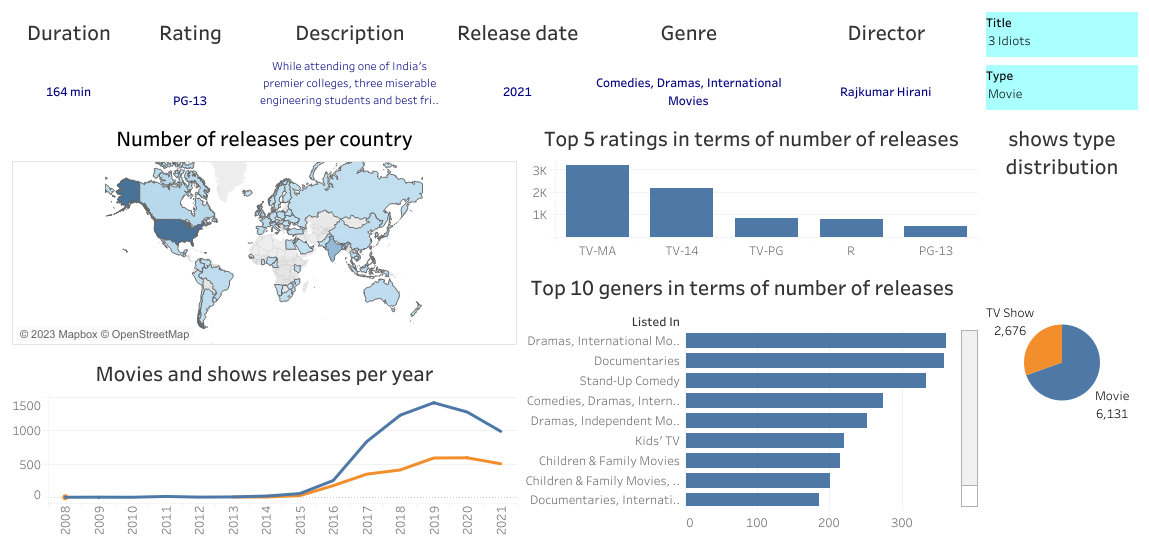

The page's visual inventory and layout, read from the dashboard file:
{"tool":"tableau","page":{"name":"Dashboard 1","canvas":[1000,1000],"units":"permille","ordinal":0},"visuals":[{"type":"worksheet","title":"Sheet 6 (2)","mark":"Automatic","box":[7,13,105.5,193.9]},{"type":"worksheet","title":"Sheet 6 (6)","mark":"Automatic","box":[112.6,13,105.7,193.9]},{"type":"worksheet","title":"Sheet 6","mark":"Automatic","box":[218.2,13,171.6,193.9]},{"type":"worksheet","title":"Sheet 6 (3)","mark":"Automatic","box":[389.8,13,119.4,193.9]},{"type":"worksheet","title":"Sheet 6 (4)","mark":"Automatic","box":[509.2,13,177.3,193.9]},{"type":"worksheet","title":"Sheet 6 (5)","mark":"Automatic","box":[686.6,13,166,193.9]},{"type":"filter","title":"Sheet 6","param":"[federated.0olwbpc1j0nxiz11mnao608j8uqc].[none:title:nk]","box":[852.5,13,140.5,84.4]},{"type":"filter","title":"Sheet 6","param":"[federated.0olwbpc1j0nxiz11mnao608j8uqc].[none:type:nk]","box":[852.5,97.4,140.5,84.4]},{"type":"worksheet","title":"Sheet 1","mark":"Automatic","box":[7,206.9,445.1,430.9]},{"type":"worksheet","title":"Sheet 5","mark":"Automatic","rows":["show_id"],"cols":["rating"],"box":[452.1,206.9,400.4,273.4]},{"type":"worksheet","title":"Sheet 4","mark":"Pie","box":[852.5,207.6,140.5,779.4]},{"type":"worksheet","title":"Sheet 3","mark":"Automatic","rows":["listed_in"],"cols":["show_id"],"box":[452.1,480.3,400.4,506.7]},{"type":"worksheet","title":"Sheet 2","mark":"Automatic","rows":["show_id"],"cols":["date_added"],"box":[7,637.8,445.1,349.2]}]}

Visuals, with their boxes on the dashboard's canvas, which has no fixed pixel size, in thousandths of its width and height (x1, y1, x2, y2). These are canvas units, not pixel positions in the 1149x547 screenshot, which may show the page scaled, cropped or inside an application window:
"Sheet 6 (2)" worksheet: crop(7, 13, 112, 207)
"Sheet 6 (6)" worksheet: crop(113, 13, 218, 207)
"Sheet 6" worksheet: crop(218, 13, 390, 207)
"Sheet 6 (3)" worksheet: crop(390, 13, 509, 207)
"Sheet 6 (4)" worksheet: crop(509, 13, 686, 207)
"Sheet 6 (5)" worksheet: crop(687, 13, 853, 207)
"Sheet 6" filter: crop(852, 13, 993, 97)
"Sheet 6" filter: crop(852, 97, 993, 182)
"Sheet 1" worksheet: crop(7, 207, 452, 638)
"Sheet 5" worksheet: crop(452, 207, 852, 480)
"Sheet 4" worksheet (Pie marks): crop(852, 208, 993, 987)
"Sheet 3" worksheet: crop(452, 480, 852, 987)
"Sheet 2" worksheet: crop(7, 638, 452, 987)
